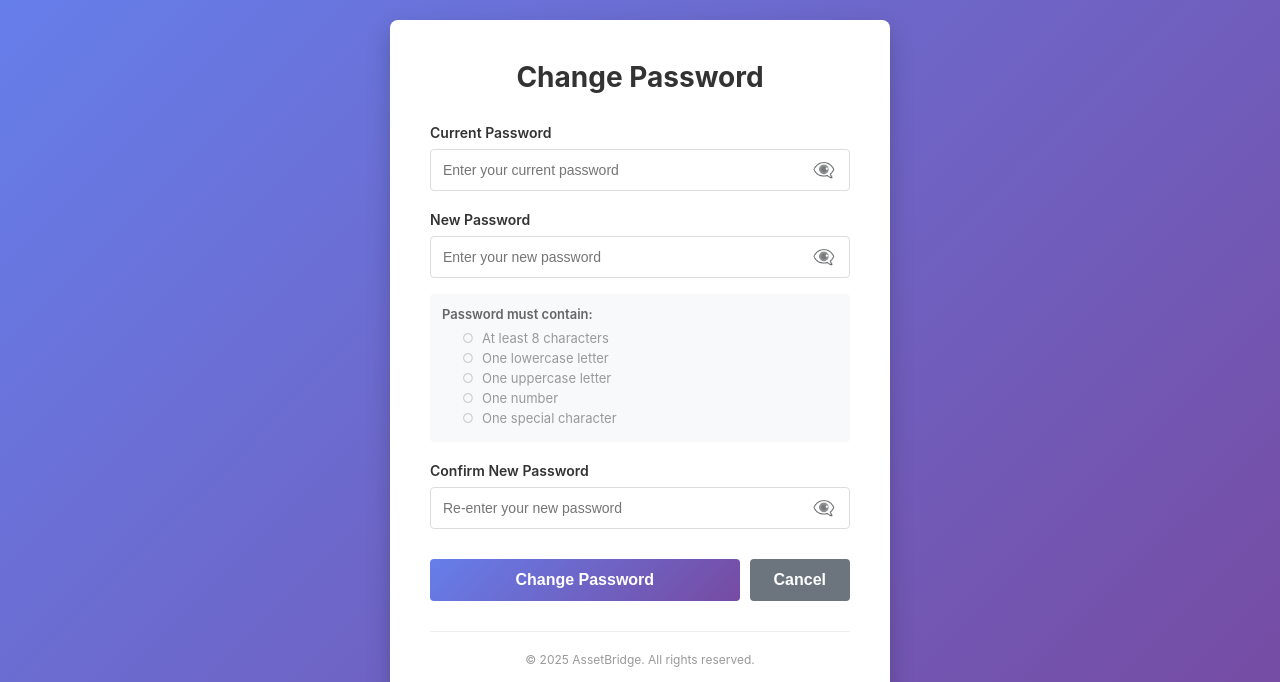
Scenario: ChangePassword Component › should show validation error when new password is same as current
Expected: the heading "Change Password" is shown, [516,60,764,94]
In the password field labelled "Current Password": (640, 170) [430,149,850,191], type "SamePassword123!"
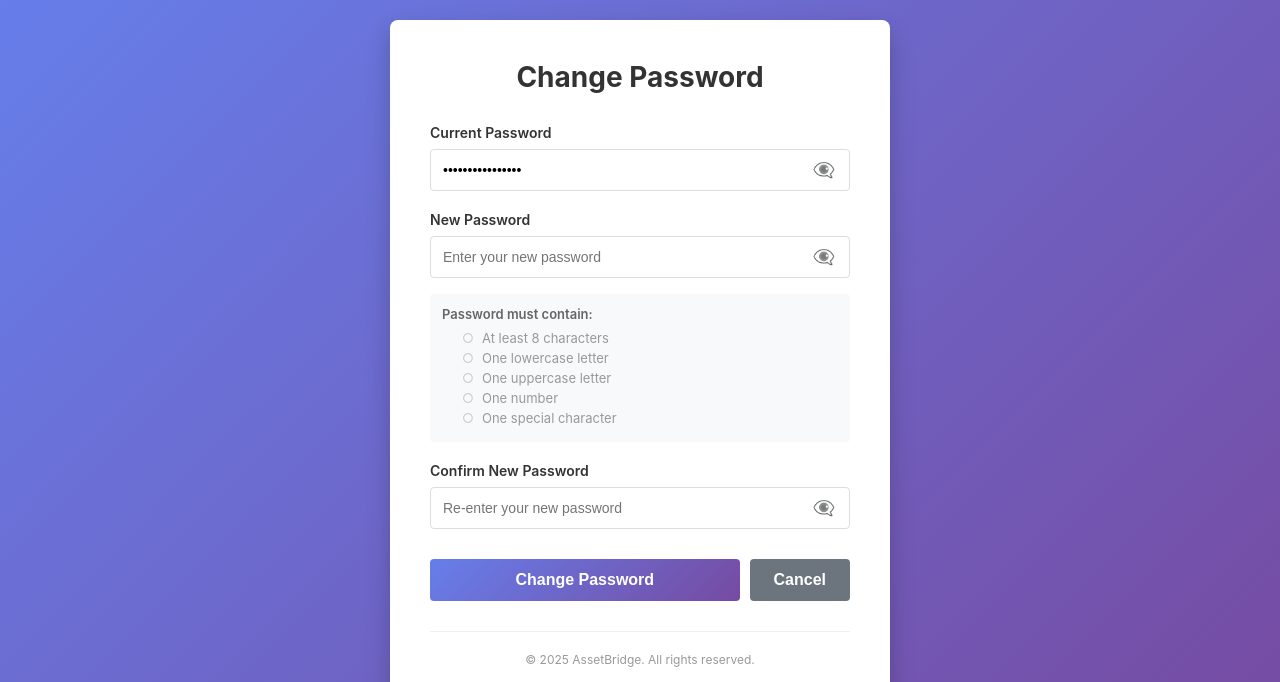
In the password field labelled "New Password": (640, 257) [430,236,850,278], type "SamePassword123!"
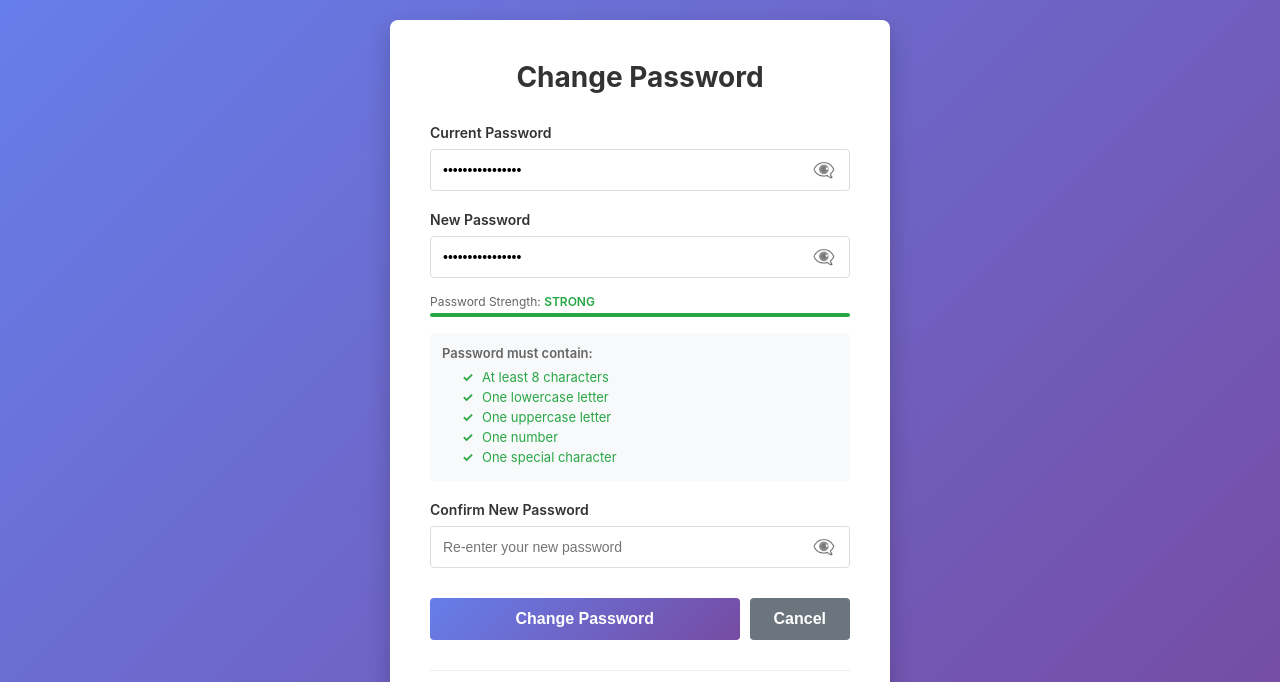
In the password field labelled "Confirm New Password": (640, 547) [430,526,850,568], type "SamePassword123!"
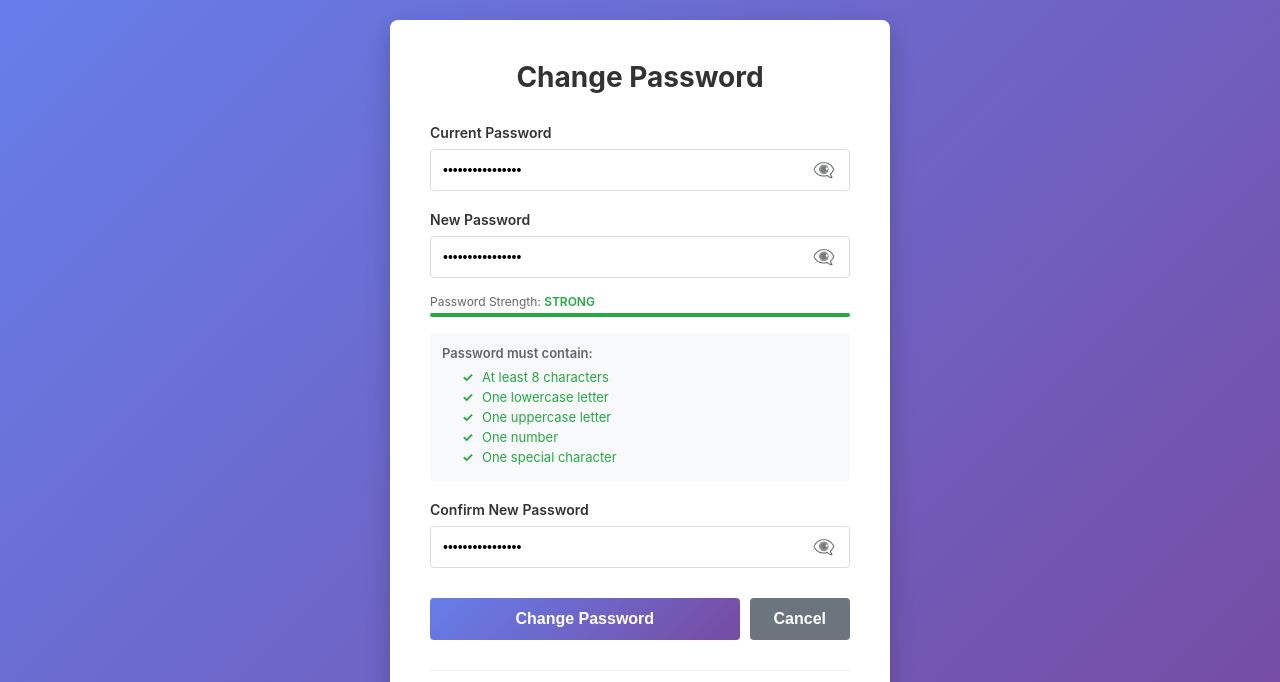
Click the button "Change Password": (585, 619) [430,598,740,640]
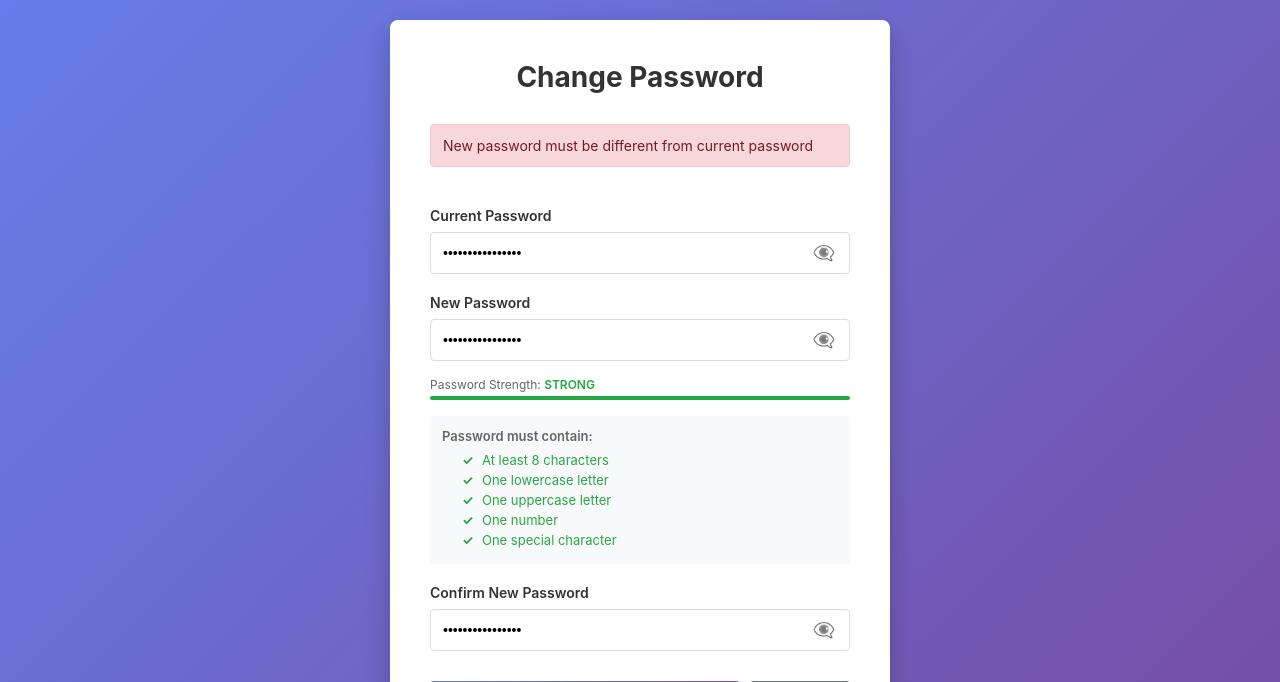
Result: the text "New password must be different from current password" is shown at [430,124,850,167]
